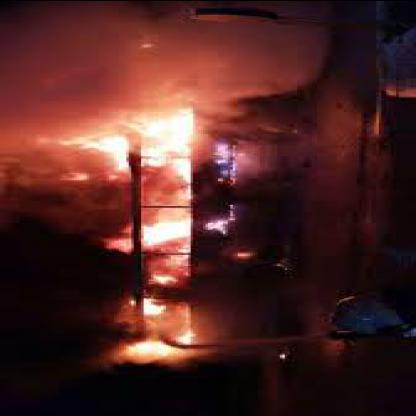Fire: (75, 134, 190, 164), (124, 342, 176, 360), (138, 225, 190, 241)
Smoke: (4, 10, 310, 100)
